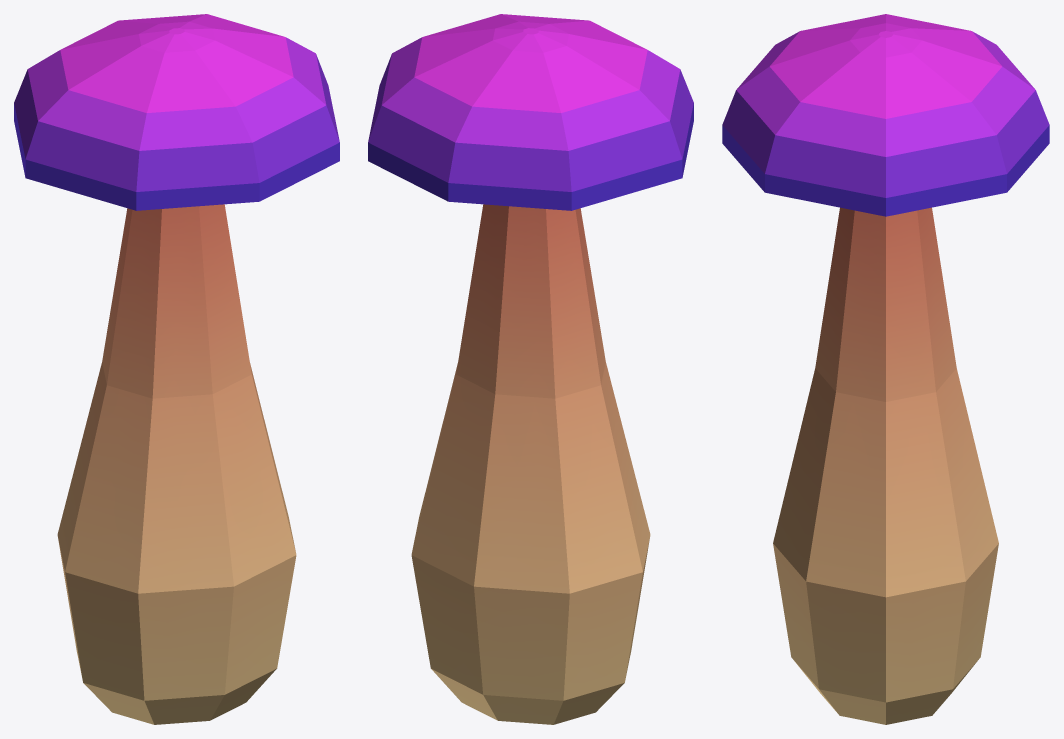
The model's file is Cavern_Mushroom_Toll02.fbx.
3 renders of one model, left to right at view 1: azimuth 30°, elevation 25°; view 2: azimuth 150°, elevation 25°; view 3: azimuth 270°, elevation 25°, orthographic.
Visible parts, largest first — view 1: Cylinder.208; view 2: Cylinder.208; view 3: Cylinder.208.
Part boxes in pixels (<box>): Cylinder.208: <box>14,14,339,724</box>; Cylinder.208: <box>368,14,693,724</box>; Cylinder.208: <box>722,14,1049,724</box>.
Size of the model in its own units: 19.05 by 39.98 by 17.99.
